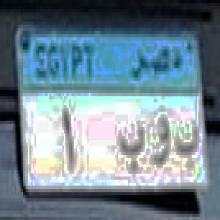1: (61, 103, 77, 171)
baa: (117, 118, 146, 176), (175, 117, 200, 172)
waw: (149, 115, 171, 178)
